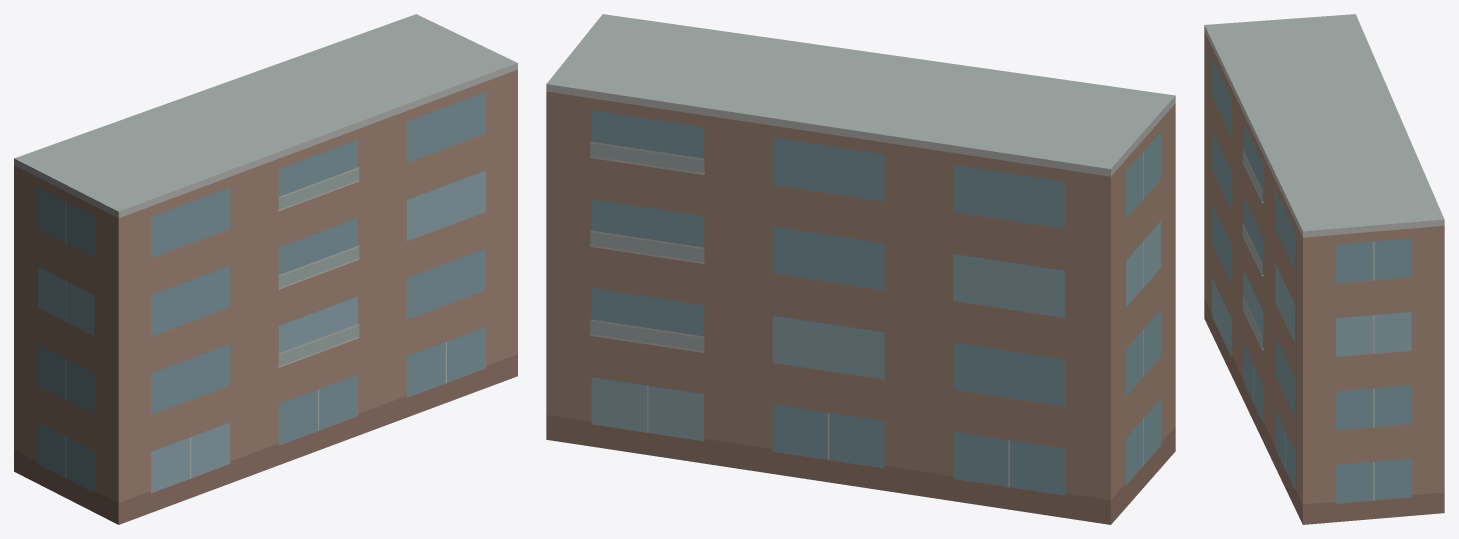
Rendered from survey-upis-32760862.glb.
3 views of the same model, side by side, from view 1: azimuth 30°, elevation 25°; view 2: azimuth 150°, elevation 25°; view 3: azimuth 270°, elevation 25° (orthographic). The views are drawn at different scales.
Visible parts, largest first — view 1: survey-upis-32760862.tmp; view 2: survey-upis-32760862.tmp; view 3: survey-upis-32760862.tmp.
Part boxes in pixels (<box>): survey-upis-32760862.tmp: <box>14,14,517,524</box>; survey-upis-32760862.tmp: <box>546,14,1175,524</box>; survey-upis-32760862.tmp: <box>1204,14,1444,524</box>.
Bounding box in the file's own units: 18.45 × 11.6 × 8.62.
